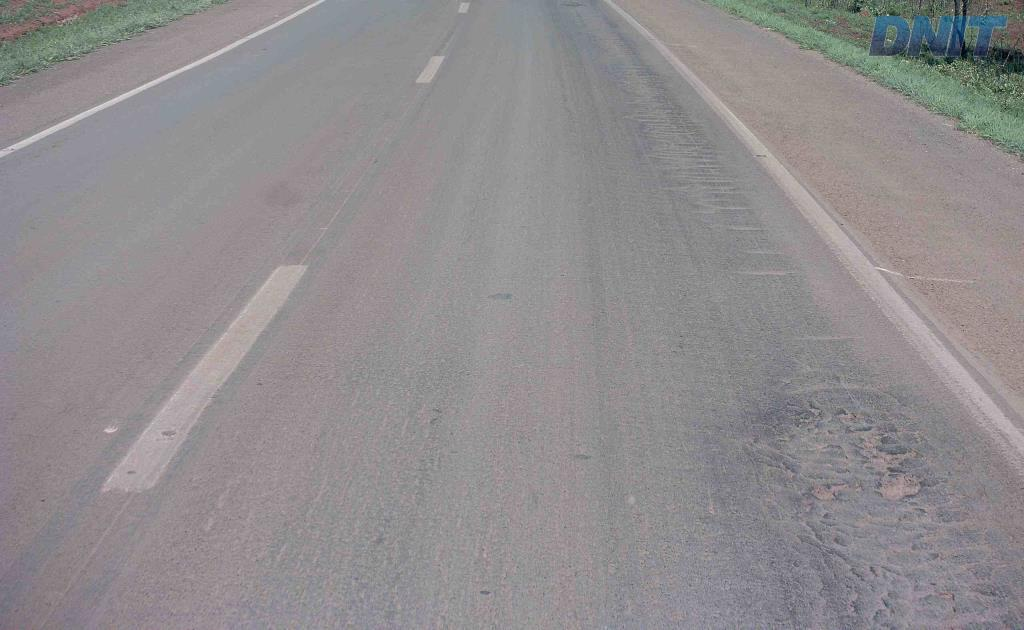crack: (755, 393, 824, 439), (796, 523, 847, 569), (872, 423, 912, 455)
pothole: (849, 427, 915, 466), (869, 466, 929, 499), (807, 474, 852, 500)
